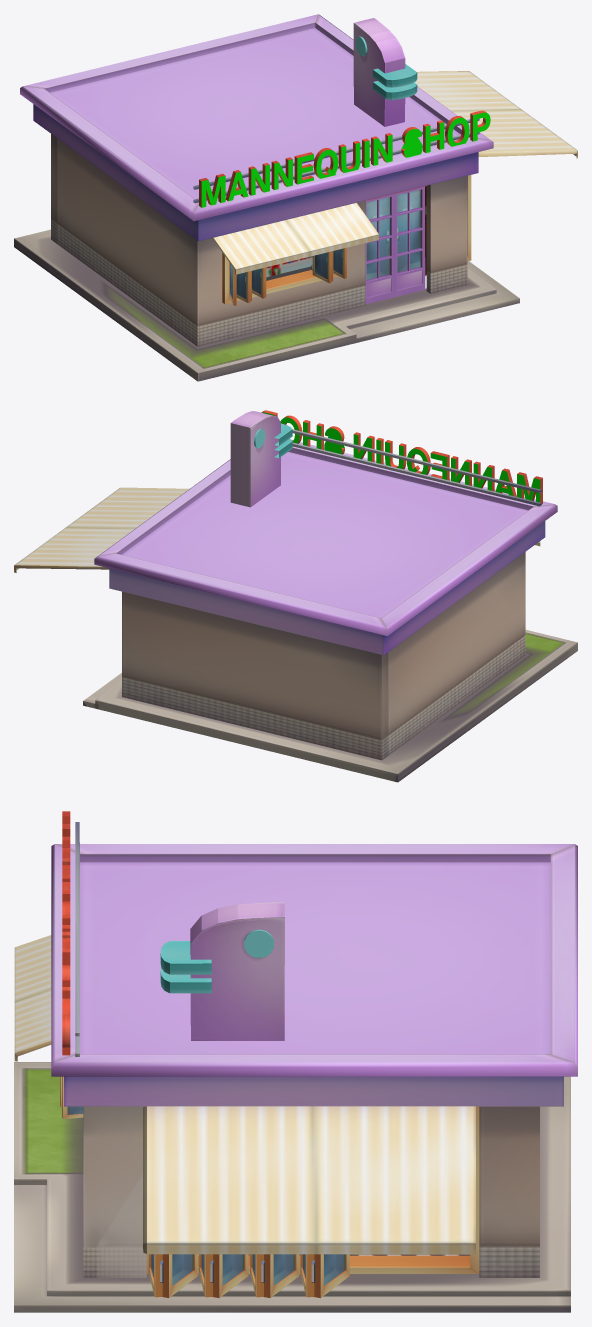
Rendered from Store4.fbx.
3 renders of one model, top to bottom at view 1: azimuth 30°, elevation 25°; view 2: azimuth 150°, elevation 25°; view 3: azimuth 270°, elevation 25°, orthographic. The views are drawn at different scales.
Parts seen in each view (by area): view 1: polySurface3; view 2: polySurface3; view 3: polySurface3.
Boxes of the visible parts, x1,y1,x2,y2 form: polySurface3: (14,14,577,381); polySurface3: (14,410,577,782); polySurface3: (14,811,577,1312).
Size of the model in its own units: 744 by 392 by 566.
